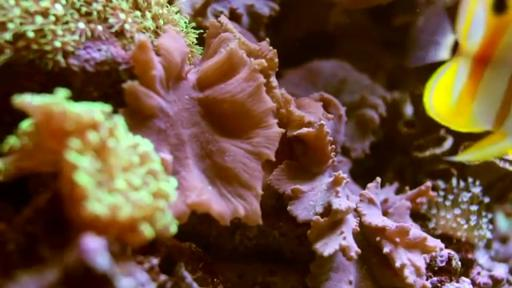Fish: (424, 0, 511, 163), (405, 0, 455, 67)
